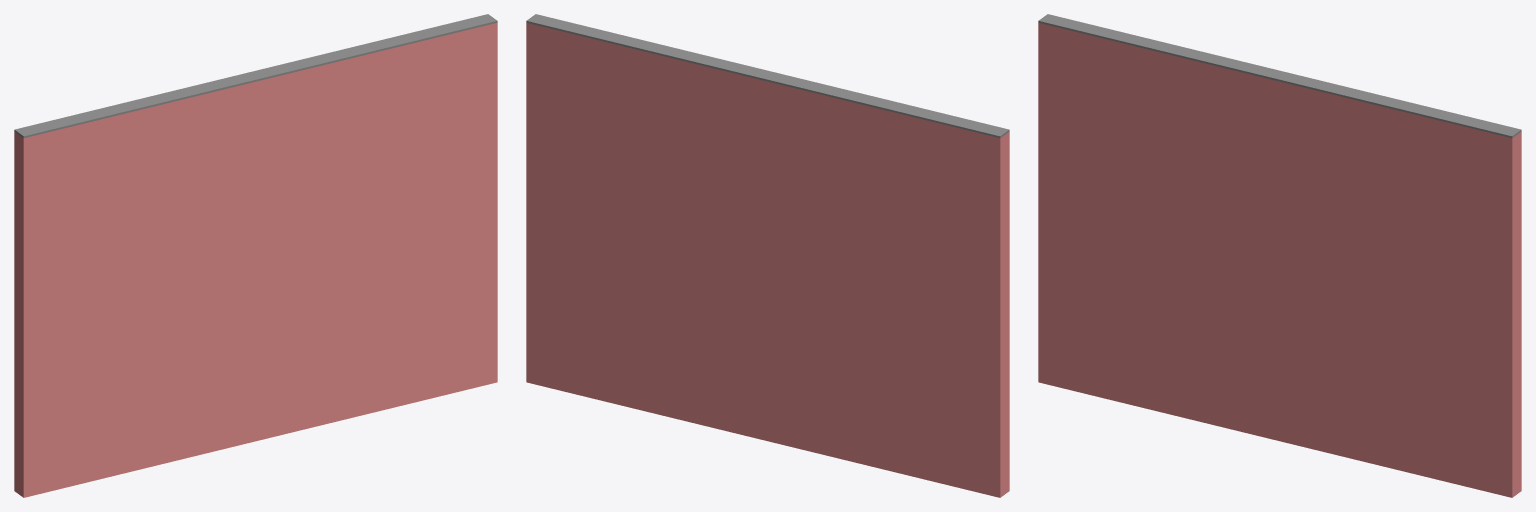
File: BO_CenterPiece_02_COLL.gltf
3 renders of one model, left to right at view 1: azimuth 30°, elevation 25°; view 2: azimuth 150°, elevation 25°; view 3: azimuth 330°, elevation 25°, orthographic.
Visible parts, largest first — view 1: BO_CenterPiece_02_COLL; view 2: BO_CenterPiece_02_COLL; view 3: BO_CenterPiece_02_COLL.
Boxes of the visible parts, left/top/right/bottom form: BO_CenterPiece_02_COLL: left=14, top=14, right=497, bottom=497; BO_CenterPiece_02_COLL: left=526, top=14, right=1009, bottom=497; BO_CenterPiece_02_COLL: left=1038, top=14, right=1521, bottom=497.
Bounding box in the file's own units: 75.15 × 54.81 × 2.56.
